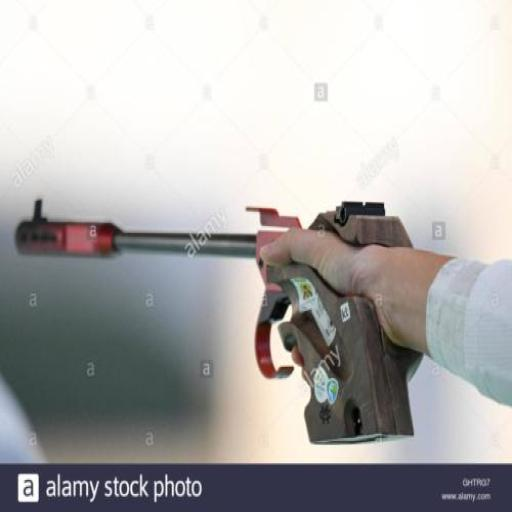shooting: (256, 220, 511, 414)
